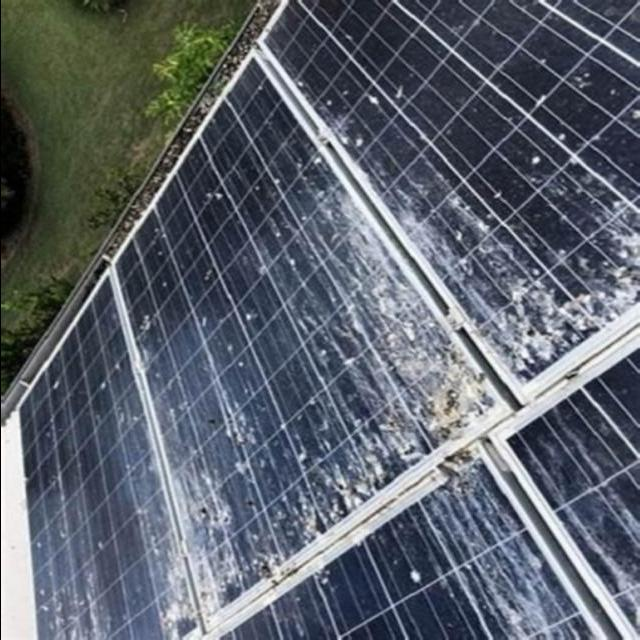soiled: (29, 1, 639, 638)
